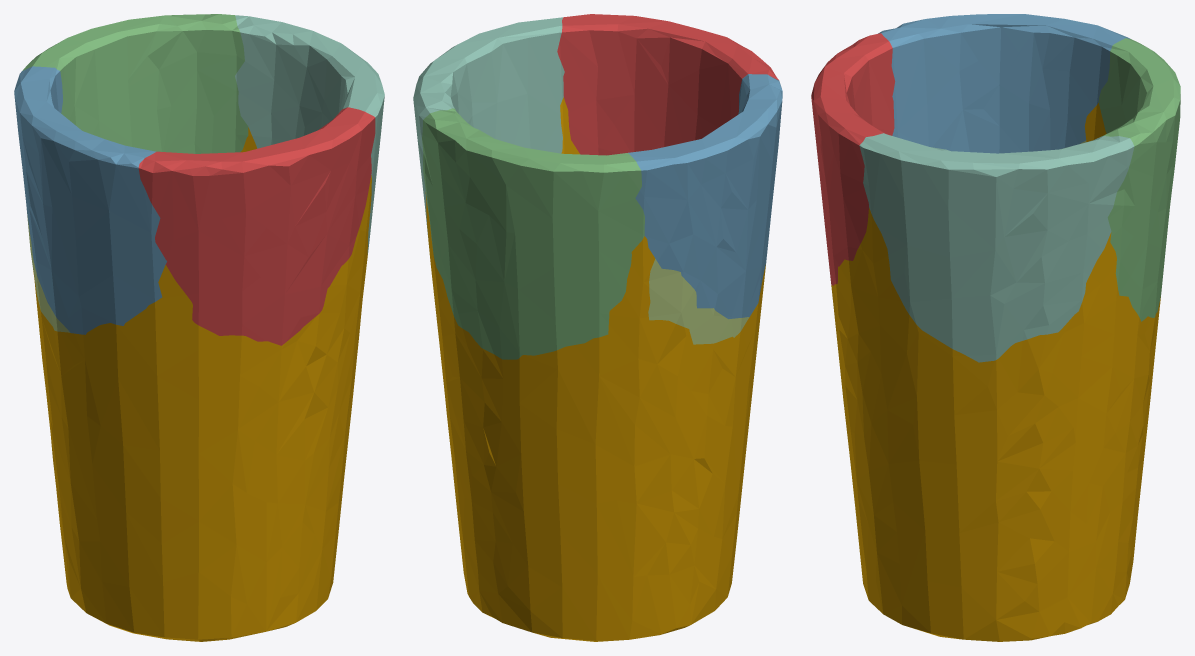
The model's file is mode_8_6pcs.glb.
3 renders of one model, left to right at view 1: azimuth 30°, elevation 25°; view 2: azimuth 150°, elevation 25°; view 3: azimuth 270°, elevation 25°, orthographic.
Visible parts, largest first — view 1: piece_0.obj, piece_1.obj, piece_2.obj, piece_3.obj, piece_4.obj, piece_5.obj; view 2: piece_0.obj, piece_3.obj, piece_2.obj, piece_1.obj, piece_4.obj, piece_5.obj; view 3: piece_0.obj, piece_4.obj, piece_2.obj, piece_3.obj, piece_1.obj.
Part boxes in pixels (left/top/right/bottom): piece_0.obj: left=33, top=127, right=371, bottom=641; piece_1.obj: left=138, top=107, right=375, bottom=345; piece_2.obj: left=14, top=66, right=166, bottom=334; piece_3.obj: left=22, top=14, right=248, bottom=153; piece_4.obj: left=235, top=15, right=384, bottom=254; piece_5.obj: left=27, top=213, right=70, bottom=332; piece_0.obj: left=425, top=97, right=765, bottom=641; piece_3.obj: left=422, top=108, right=644, bottom=359; piece_2.obj: left=628, top=74, right=782, bottom=319; piece_1.obj: left=557, top=14, right=778, bottom=155; piece_4.obj: left=413, top=17, right=564, bottom=237; piece_5.obj: left=648, top=259, right=749, bottom=344; piece_0.obj: left=831, top=103, right=1160, bottom=641; piece_4.obj: left=859, top=133, right=1134, bottom=362; piece_2.obj: left=878, top=14, right=1130, bottom=153; piece_3.obj: left=1098, top=38, right=1180, bottom=321; piece_1.obj: left=811, top=33, right=895, bottom=285.
Size of the model in its own units: 0.6712 by 1 by 0.6685.
